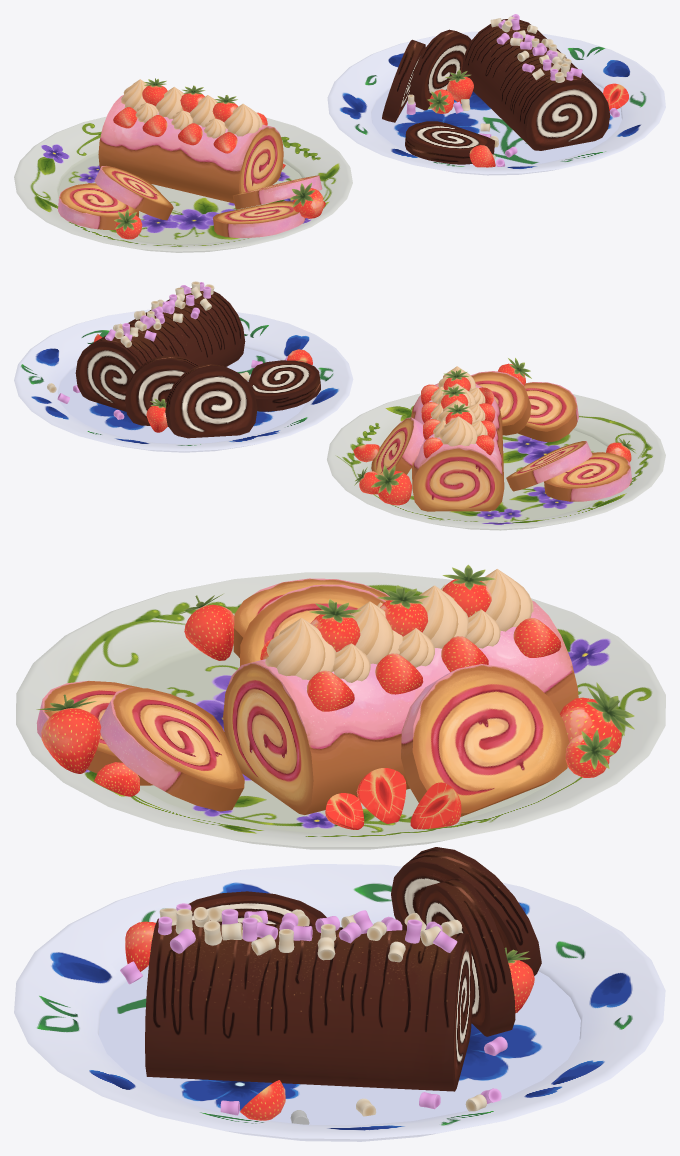
3 views of the same model, one above another, from view 1: azimuth 30°, elevation 25°; view 2: azimuth 150°, elevation 25°; view 3: azimuth 270°, elevation 25° (orthographic). The views are drawn at different scales.
Parts seen in each view (by area): view 1: SM_Swiss_Roll_Vanilla, SM_Swiss_Roll_Chocolate; view 2: SM_Swiss_Roll_Vanilla, SM_Swiss_Roll_Chocolate; view 3: SM_Swiss_Roll_Chocolate, SM_Swiss_Roll_Vanilla.
Part boxes in pixels (box(x1,y1,x2,y2)): SM_Swiss_Roll_Vanilla: box(14, 78, 352, 252); SM_Swiss_Roll_Chocolate: box(327, 14, 665, 175); SM_Swiss_Roll_Vanilla: box(327, 358, 665, 530); SM_Swiss_Roll_Chocolate: box(14, 281, 353, 452); SM_Swiss_Roll_Chocolate: box(14, 847, 665, 1141); SM_Swiss_Roll_Vanilla: box(16, 564, 665, 849).
Size of the model in its own units: 0.5554 by 0.0824 by 0.2688.
7 materials, 6 textured.
